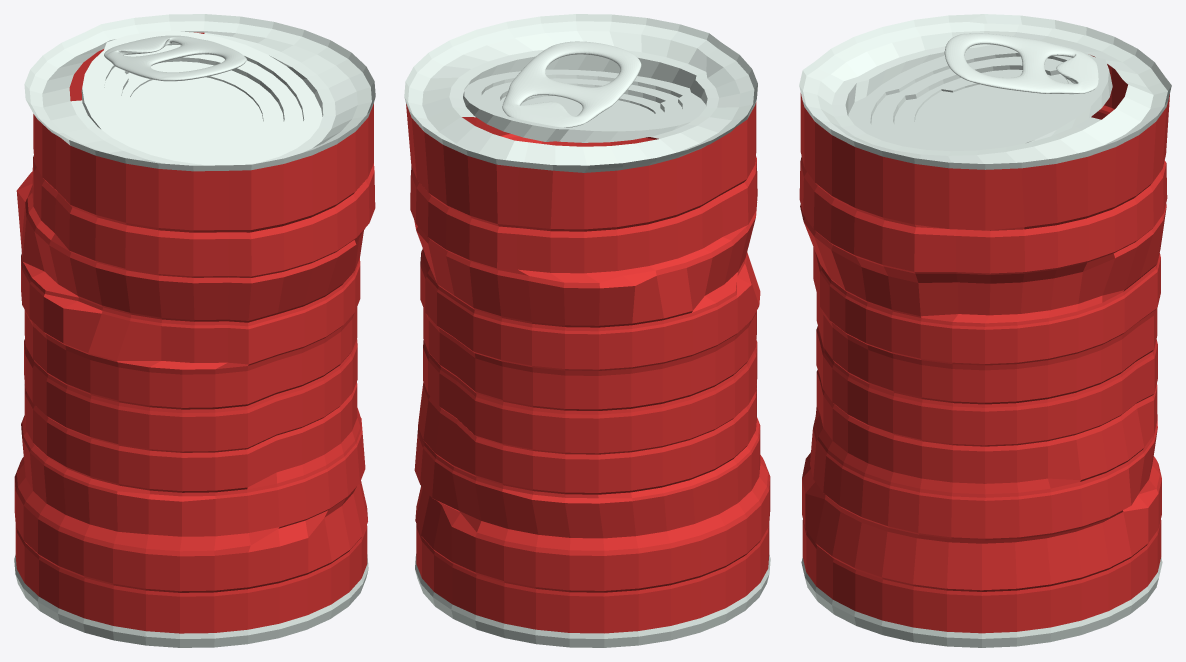
File: lata2.fbx
3 renders of one model, left to right at view 1: azimuth 30°, elevation 25°; view 2: azimuth 150°, elevation 25°; view 3: azimuth 270°, elevation 25°, orthographic.
Parts seen in each view (by area): view 1: Cylinder, Cube; view 2: Cylinder, Cube; view 3: Cylinder, Cube.
Part boxes in pixels (bbox=[...]): Cylinder: bbox=[14, 14, 375, 647]; Cube: bbox=[104, 35, 246, 81]; Cylinder: bbox=[404, 14, 770, 647]; Cube: bbox=[502, 41, 641, 127]; Cylinder: bbox=[799, 14, 1171, 647]; Cube: bbox=[944, 33, 1098, 94].
Bounding box in the file's own units: 199 × 310 × 200.
